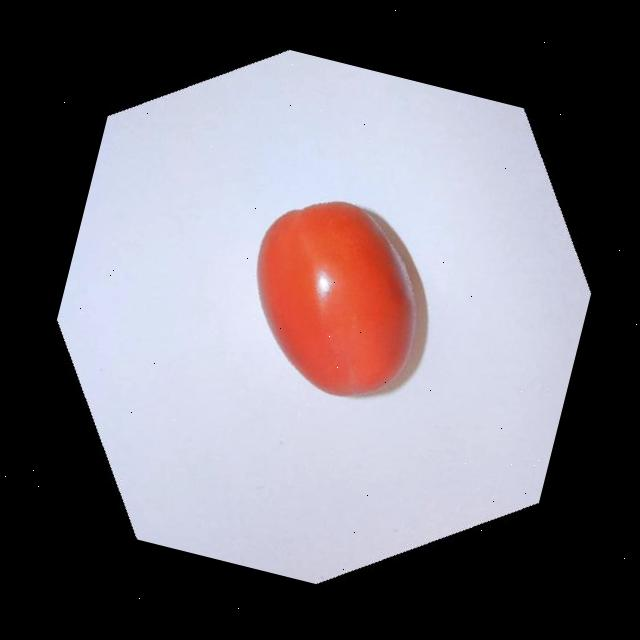tomato: (217, 180, 456, 418)
